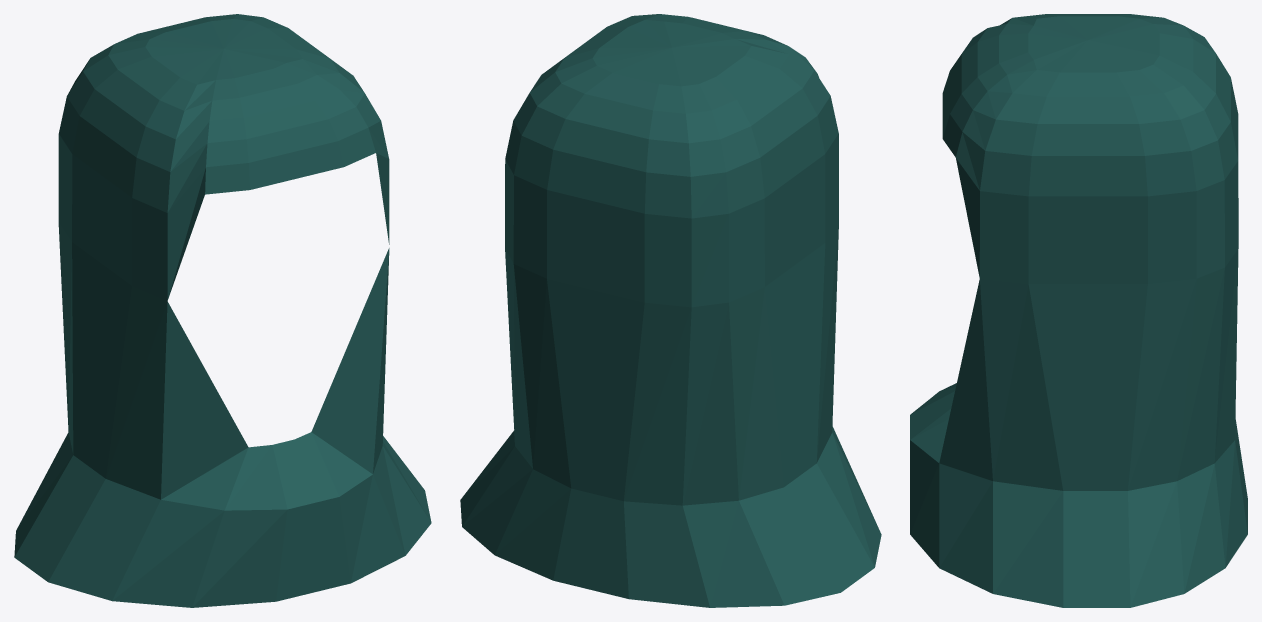
File: headwear-hijab.high.c6424da6.glb
3 views of the same model, side by side, from view 1: azimuth 30°, elevation 25°; view 2: azimuth 150°, elevation 25°; view 3: azimuth 270°, elevation 25° (orthographic).
Parts seen in each view (by area): view 1: headwear-hijab; view 2: headwear-hijab; view 3: headwear-hijab.
Boxes of the visible parts, x1,y1,x2,y2 form: headwear-hijab: (14, 14, 431, 607); headwear-hijab: (460, 14, 881, 607); headwear-hijab: (910, 14, 1247, 607).
Size of the model in its own units: 0.3335 by 0.4045 by 0.2599.
